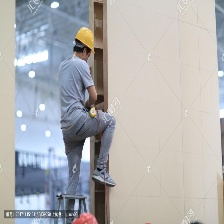helmet: (75, 25, 97, 51)
no-vest: (56, 58, 97, 137)
person: (54, 25, 117, 196)
